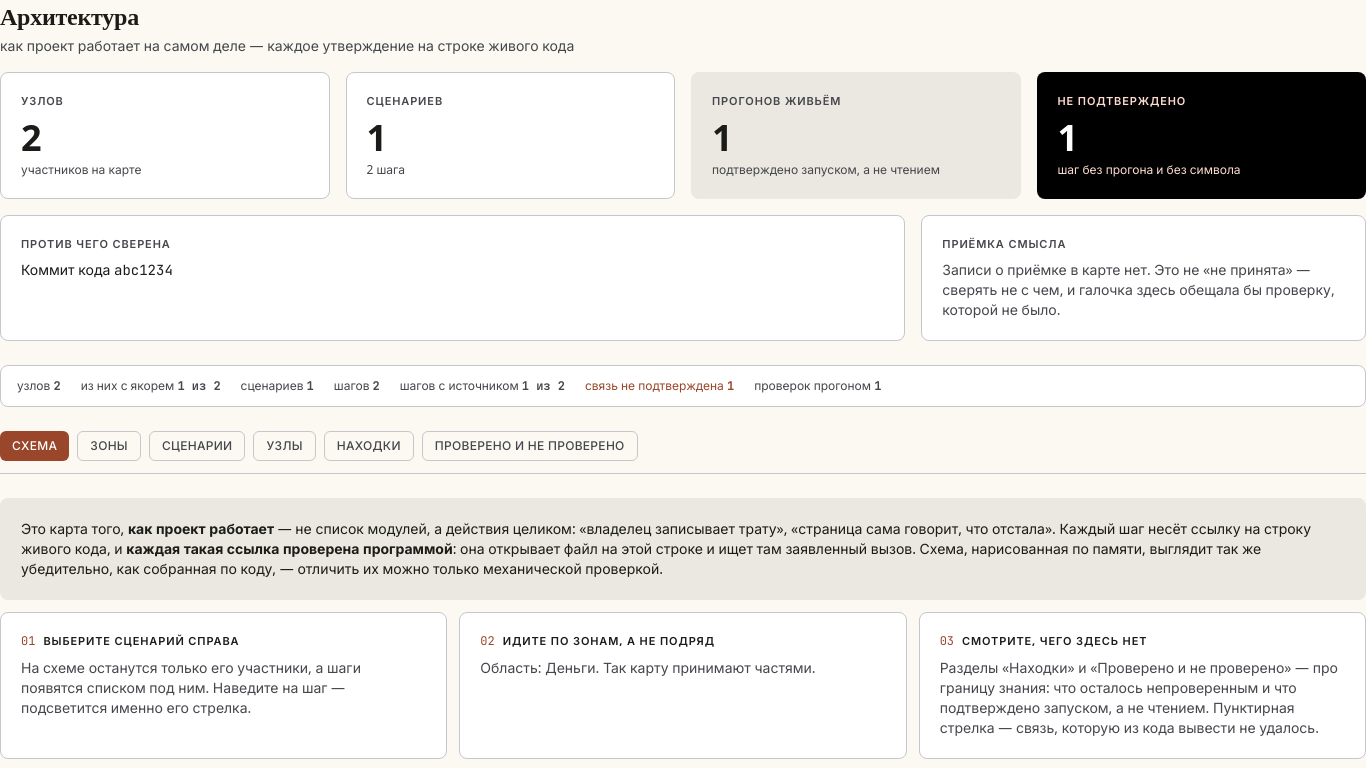
ArchitectureView › называет то, чего сама страница не знает
The image size is (1366, 768).
Step 1. Click the button "Проверено и не проверено" → (530, 446), box [422,431,638,461]
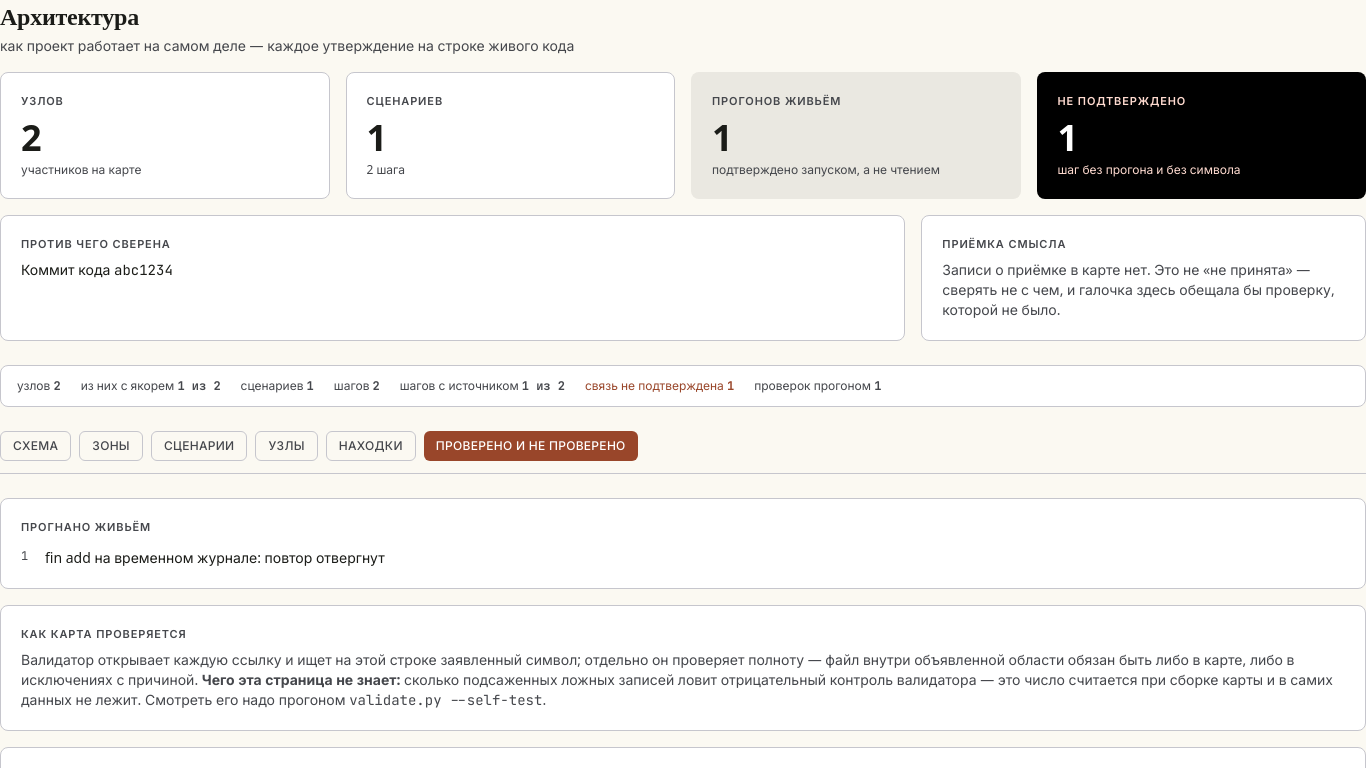
Check: the text "Чего эта страница не знает:" is shown, box [202,670,400,689]
